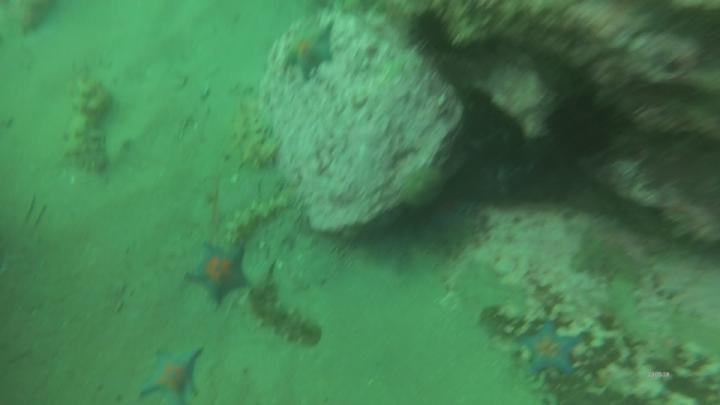echinus: (408, 8, 454, 59)
holothurian: (64, 73, 117, 184), (227, 85, 288, 173), (253, 283, 324, 347), (206, 196, 309, 236)
starfish: (185, 240, 255, 305), (142, 348, 208, 405), (521, 323, 584, 381), (283, 17, 339, 78)
